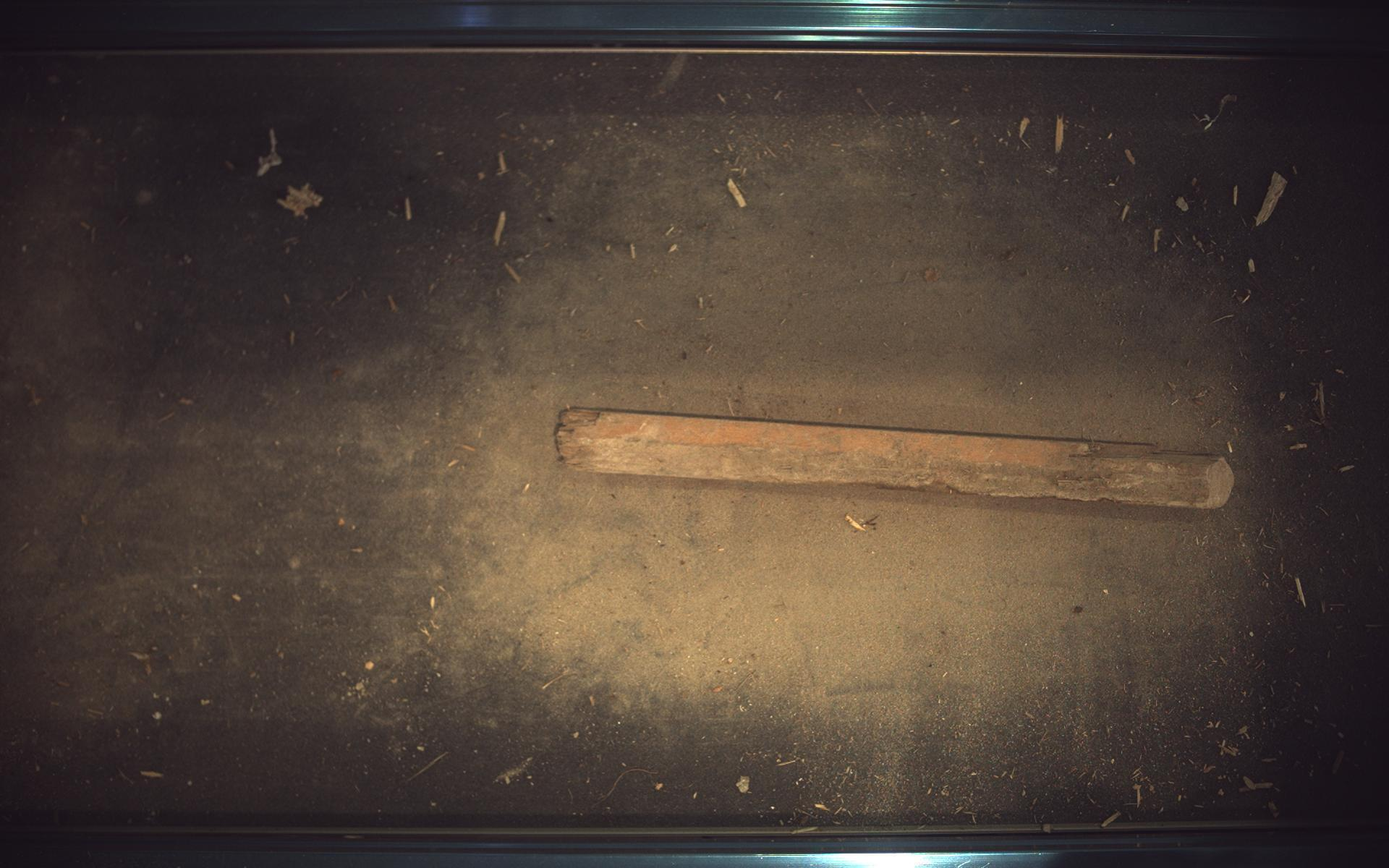wood: (556, 408, 1237, 509)
